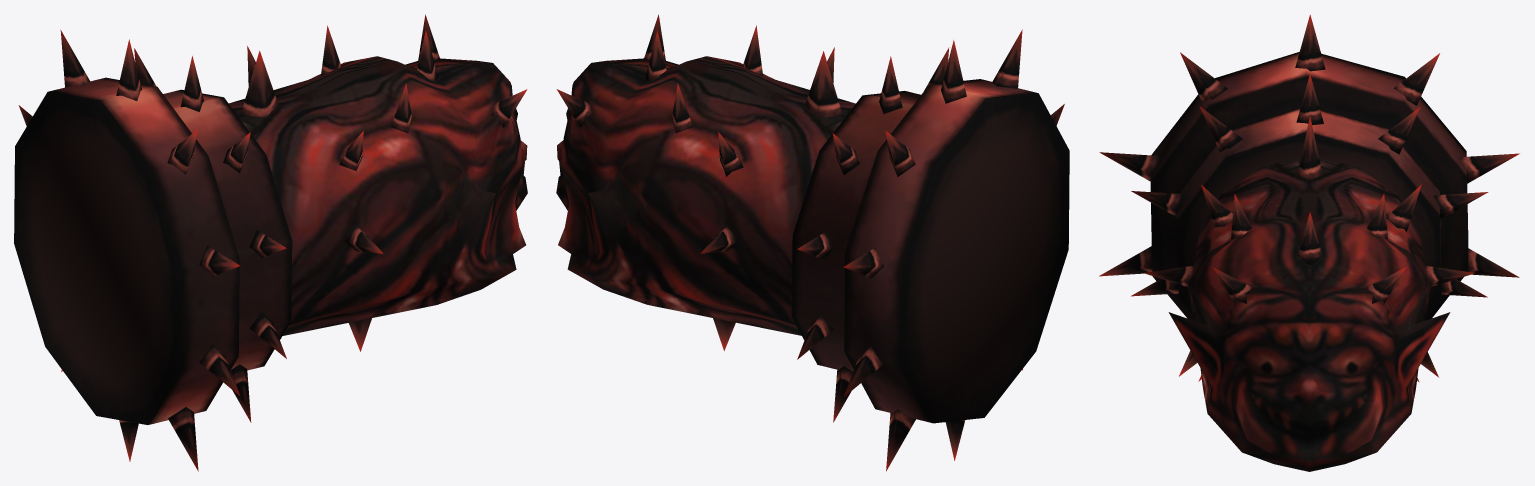
The model's file is WP_0H_Fist10.FBX.
The picture shows the model from 3 angles, left to right: view 1: azimuth 30°, elevation 25°; view 2: azimuth 150°, elevation 25°; view 3: azimuth 270°, elevation 25°; orthographic projection. The views are drawn at different scales.
Visible parts, largest first — view 1: WP_0H_Fist10; view 2: WP_0H_Fist10; view 3: WP_0H_Fist10.
Boxes of the visible parts, x1,y1,x2,y2 form: WP_0H_Fist10: (14,14,527,471); WP_0H_Fist10: (556,14,1069,471); WP_0H_Fist10: (1099,14,1519,471).
Size of the model in its own units: 55.61 by 52.36 by 49.85.
